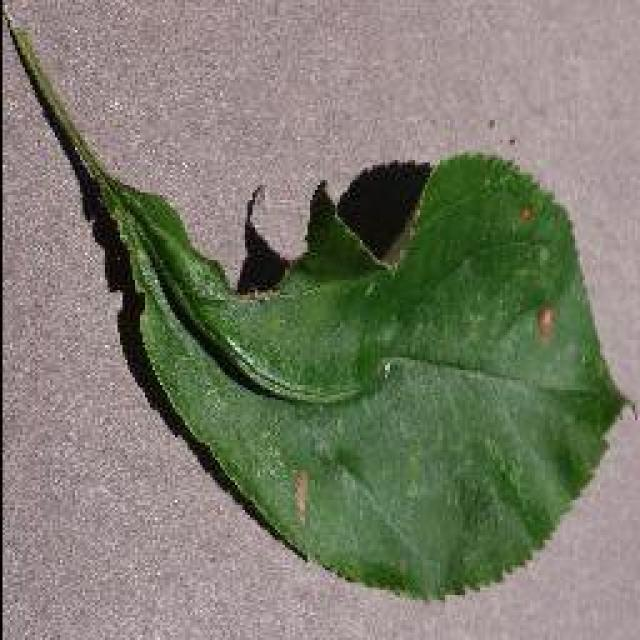Black_rot: (0, 0, 637, 602)
